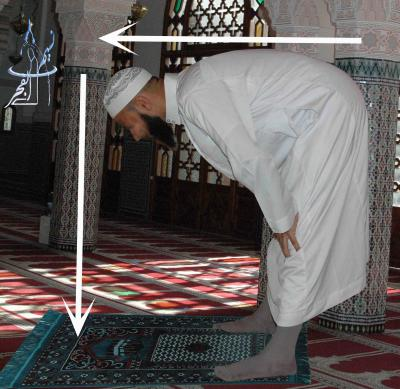ruku: (98, 40, 377, 389)
